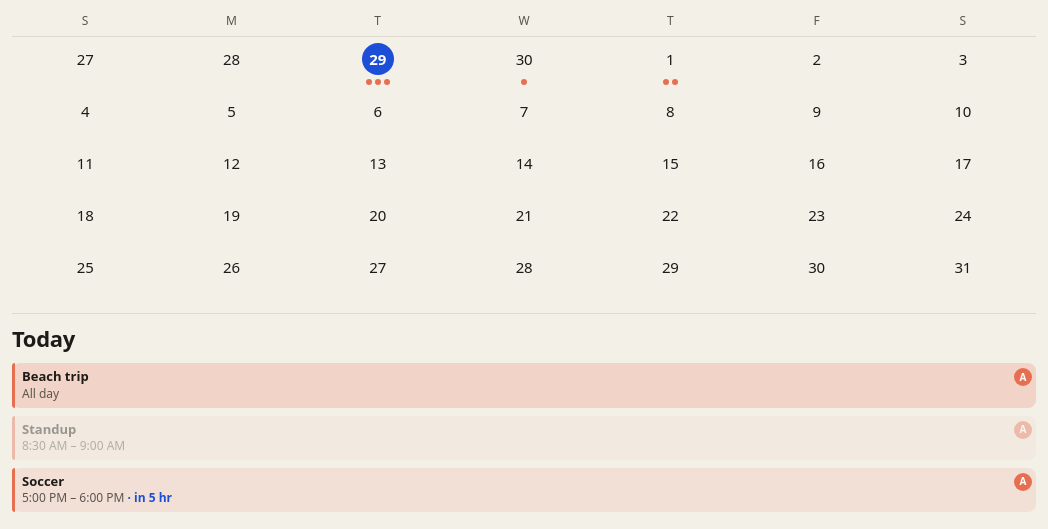
Scenario: phone month › shows dots, and the tapped day underneath
Expected: the text "Soccer" is shown, [22,472,64,490]
Step 1. Click the cell named "October 1, 2 events" → point(670, 63), box [597,37,743,89]
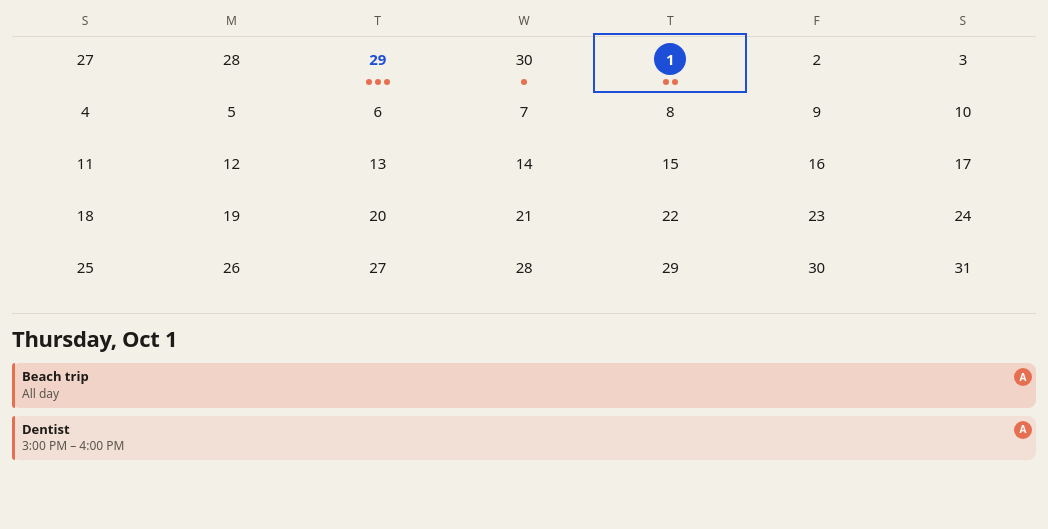
Result: the text "Dentist" is shown at [22,420,70,438]
Result: the button "Soccer" is gone
Step 2. Click the cell named "October 3, nothing planned" → point(963, 63), box [890,37,1036,89]
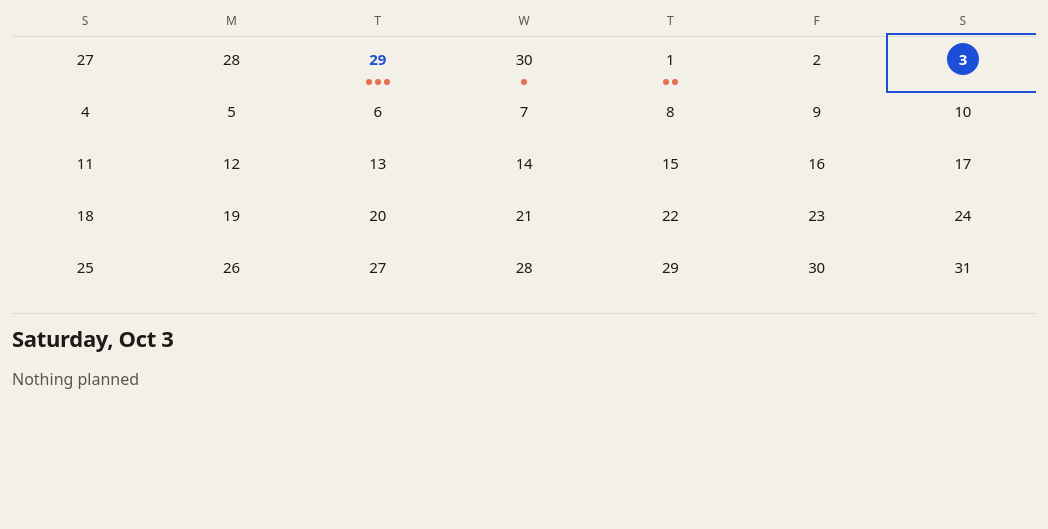
Result: the text "Nothing planned" is shown at [12,368,139,390]
